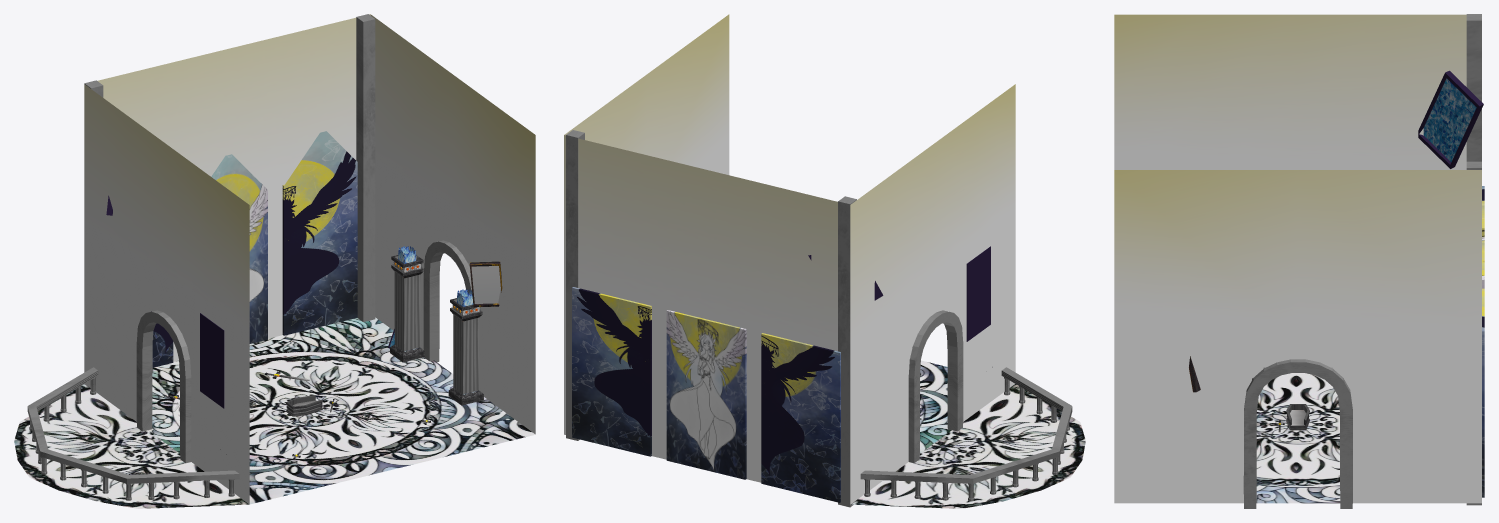
The model's file is Start_Room.fbx.
The picture shows the model from 3 angles, left to right: view 1: azimuth 30°, elevation 25°; view 2: azimuth 150°, elevation 25°; view 3: azimuth 270°, elevation 25°; orthographic projection. The views are drawn at different scales.
Visible parts, largest first — view 1: Start_Room, Window, Room_Pillar, Corridor, Window1, Aech_gate, Pillar.004, Pillar.003, Arch_gate, Glass.001, Glass.002, Window2 (+1 smaller); view 2: Start_Room, Window1, Window2, Window, Corridor, Aech_gate, Room_Pillar.001, Room_Pillar, Glass.001; view 3: Start_Room, Arch_gate, Glass, Room_Pillar.001, Window, Coffin.002.
Boxes of the visible parts, x1,y1,x2,y2 form: Start_Room: (14, 14, 535, 508); Window: (282, 131, 357, 335); Room_Pillar: (356, 14, 375, 321); Corridor: (27, 367, 239, 500); Window1: (211, 154, 267, 343); Aech_gate: (136, 310, 191, 462); Pillar.004: (390, 246, 424, 362); Pillar.003: (448, 289, 483, 405); Arch_gate: (423, 240, 471, 362); Glass.001: (200, 313, 224, 408); Glass.002: (469, 261, 502, 307); Window2: (151, 311, 173, 367); Start_Room: (564, 14, 1085, 508); Window1: (666, 310, 746, 479); Window2: (761, 333, 840, 502); Window: (572, 287, 651, 456); Corridor: (860, 367, 1072, 501); Aech_gate: (908, 310, 963, 462); Room_Pillar.001: (838, 196, 856, 507); Room_Pillar: (566, 130, 584, 440); Glass.001: (966, 246, 990, 341); Start_Room: (1114, 14, 1481, 503); Arch_gate: (1243, 359, 1352, 508); Glass: (1418, 70, 1483, 168); Room_Pillar.001: (1466, 14, 1481, 161); Window: (1482, 288, 1484, 497); Coffin.002: (1286, 404, 1309, 430).
Bounding box in the file's own units: 7492 × 5059 × 5039.
Materials: 29 (29 with a texture image).
